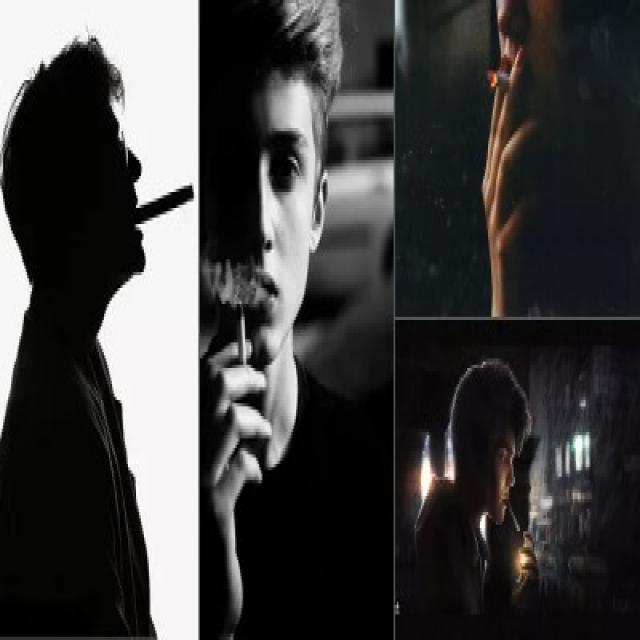smoke: (132, 180, 194, 247), (234, 304, 251, 371), (482, 67, 515, 96), (506, 493, 522, 534)
